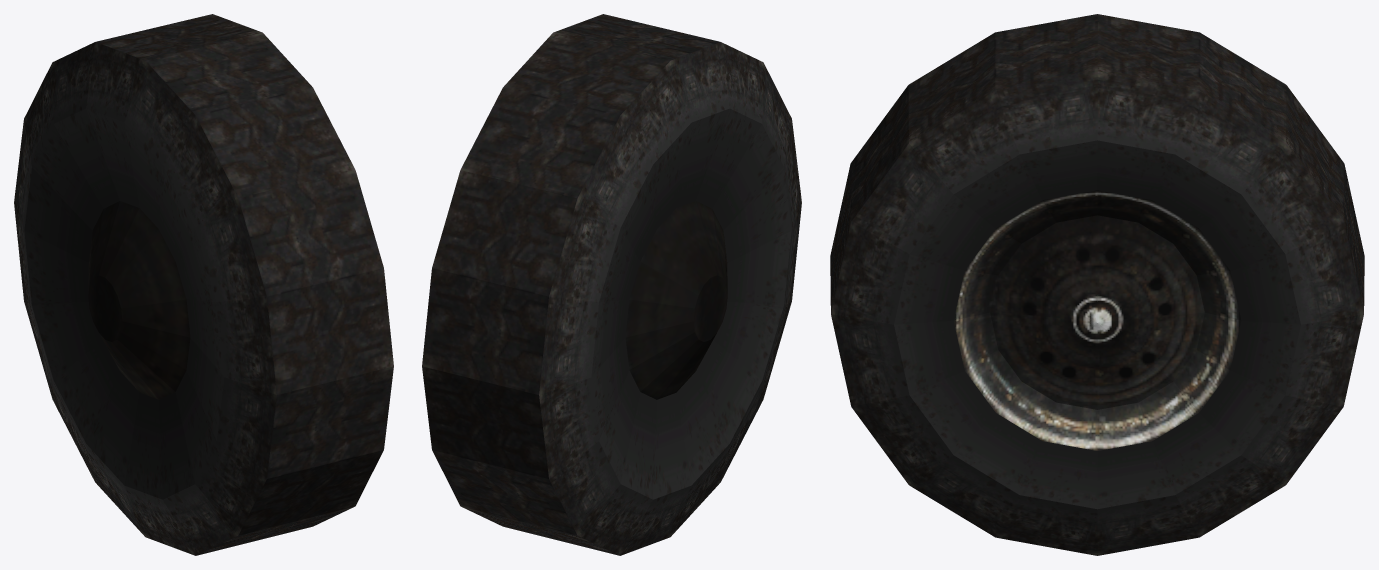
The model's file is wheel.obj.
The picture shows the model from 3 angles, left to right: view 1: azimuth 30°, elevation 25°; view 2: azimuth 150°, elevation 25°; view 3: azimuth 270°, elevation 25°; orthographic projection.
Visible parts, largest first — view 1: Mesh_0020.001; view 2: Mesh_0020.001; view 3: Mesh_0020.001.
Boxes of the visible parts, x1=… form: Mesh_0020.001: x1=14, y1=14, x2=393, y2=555; Mesh_0020.001: x1=422, y1=14, x2=801, y2=555; Mesh_0020.001: x1=830, y1=14, x2=1364, y2=555.
Size of the model in its own units: 31.47 by 80.27 by 80.27.
